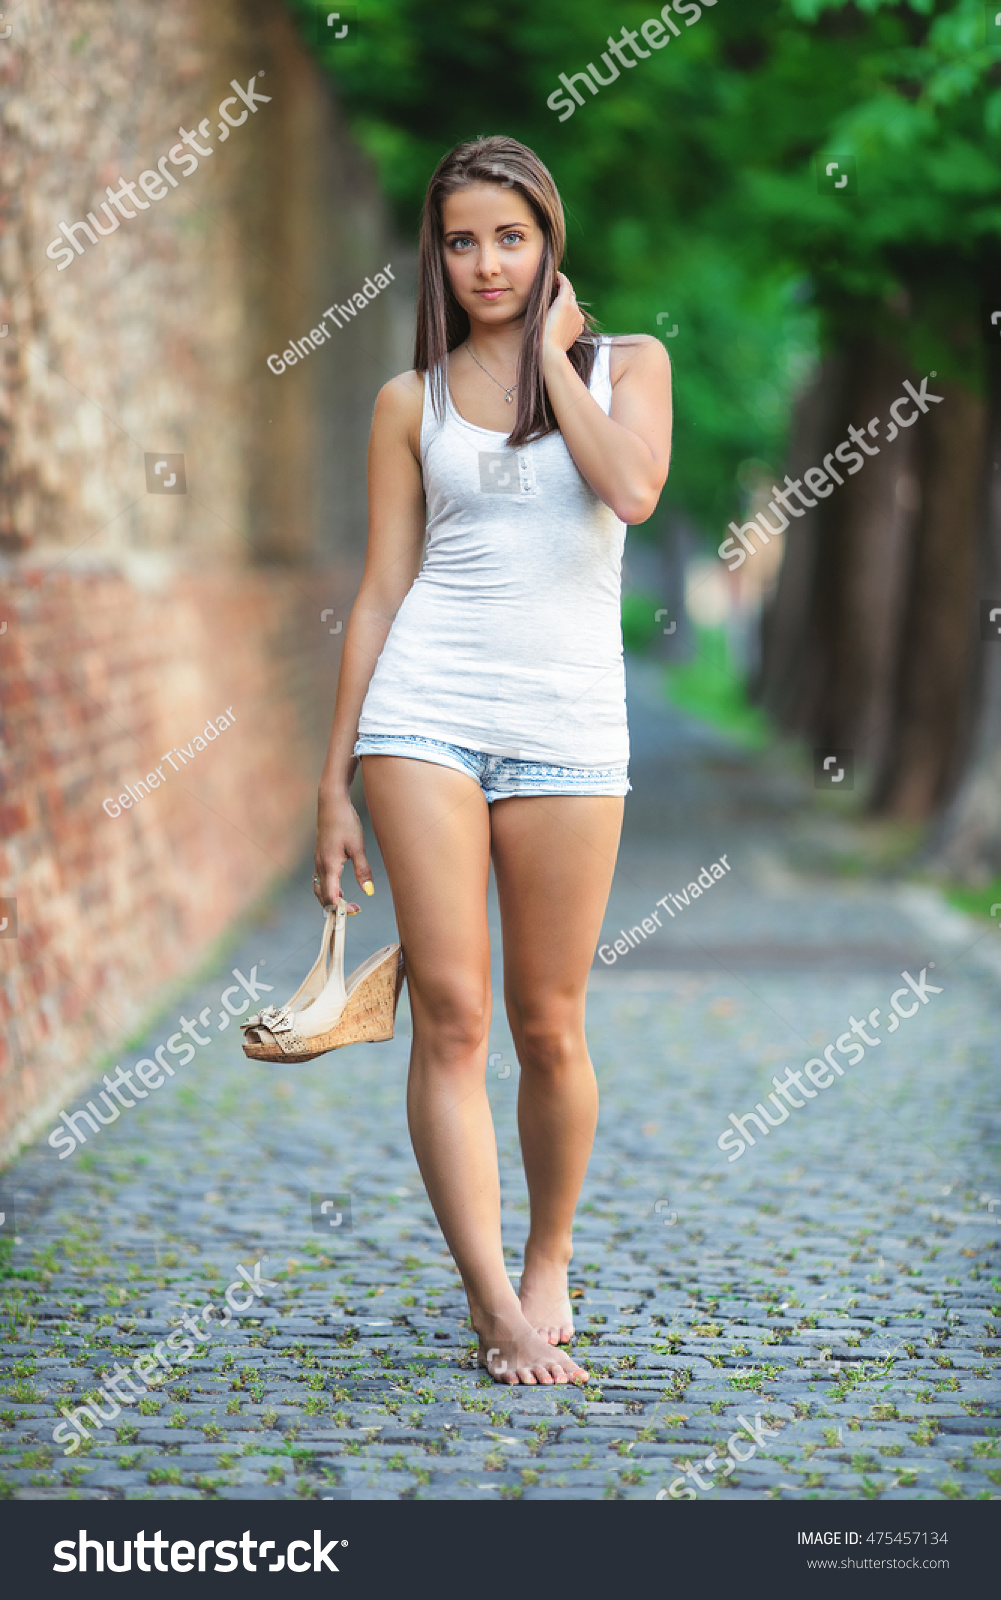person: (226, 108, 688, 1393)
